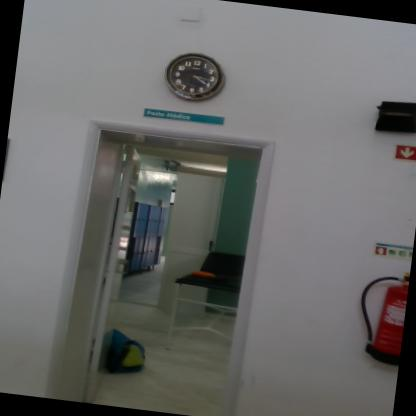open: (61, 113, 291, 415)
